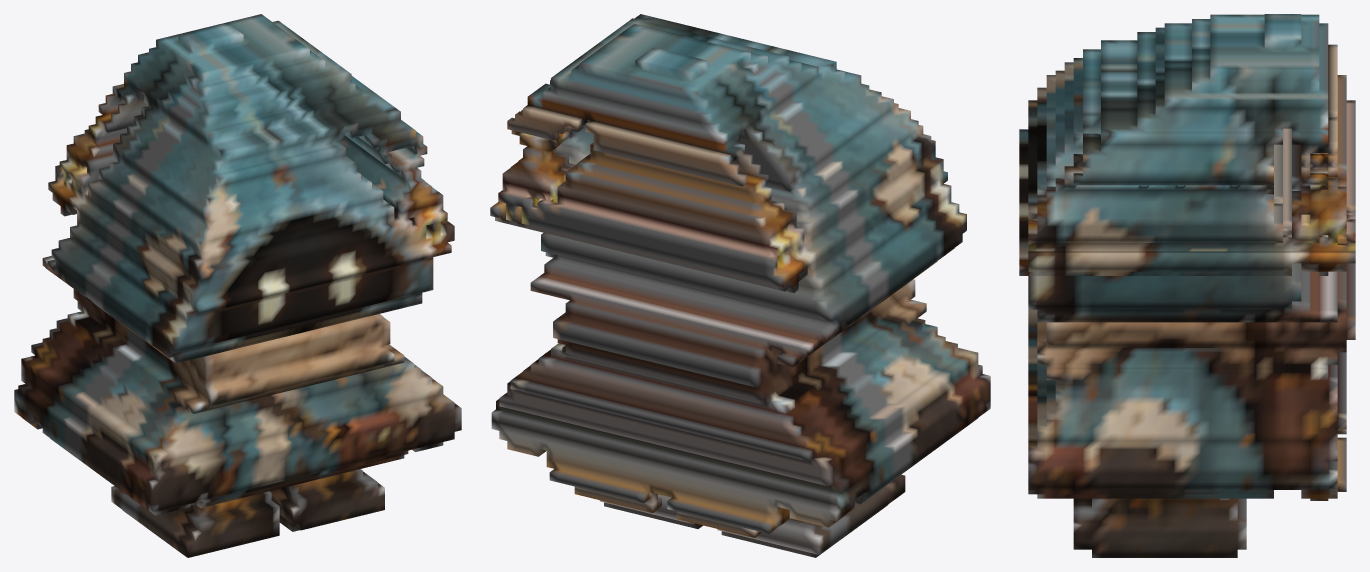
The model's file is sheet1_L2.glb.
3 renders of one model, left to right at view 1: azimuth 30°, elevation 25°; view 2: azimuth 150°, elevation 25°; view 3: azimuth 270°, elevation 25°, orthographic. The views are drawn at different scales.
Visible parts, largest first — view 1: BPT_sheet1_L2; view 2: BPT_sheet1_L2; view 3: BPT_sheet1_L2.
Boxes of the visible parts, box(x1,y1,x2,y2) form: BPT_sheet1_L2: box(14, 14, 461, 557); BPT_sheet1_L2: box(490, 14, 990, 557); BPT_sheet1_L2: box(1019, 14, 1355, 557).
Bounding box in the file's own units: 1.49 × 2 × 1.25.
